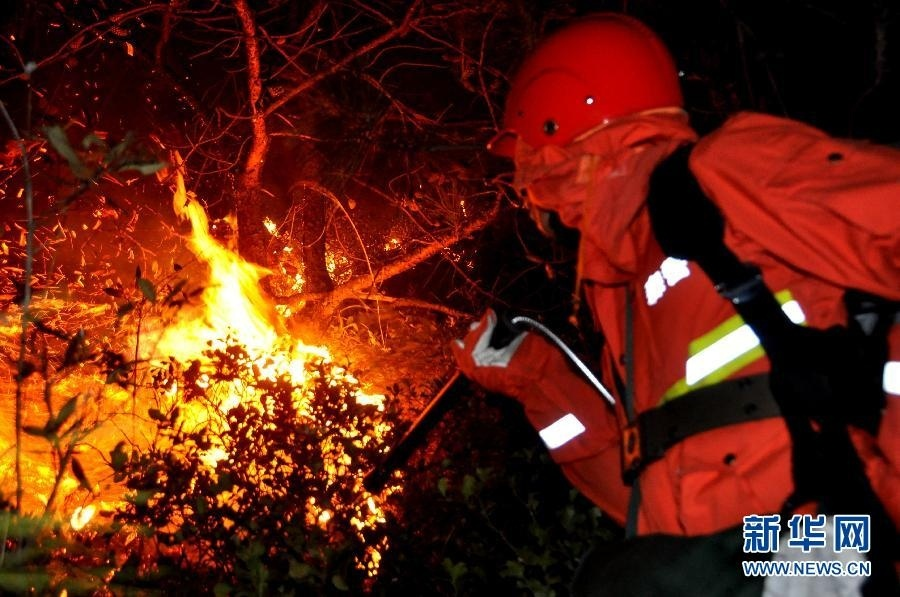fire: (0, 153, 393, 566)
